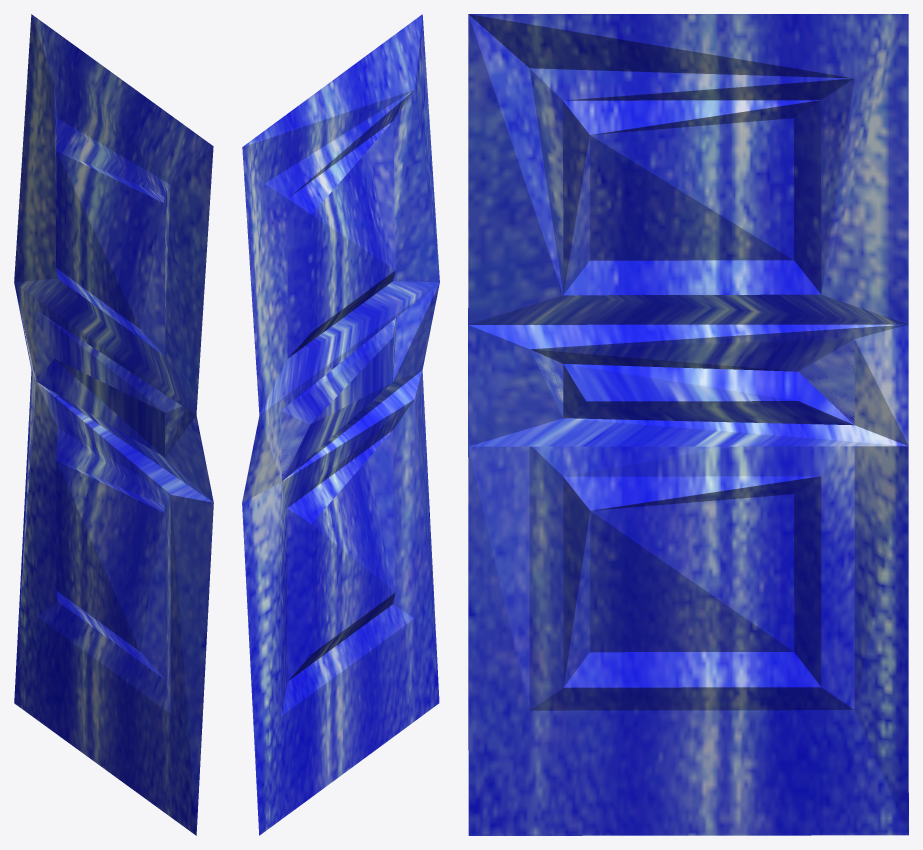
The picture shows the model from 3 angles, left to right: view 1: azimuth 30°, elevation 25°; view 2: azimuth 150°, elevation 25°; view 3: azimuth 270°, elevation 25°; orthographic projection. The views are drawn at different scales.
Size of the model in its own units: 0.00984 by 0.2241 by 0.1076.
1 material, 1 textured.
